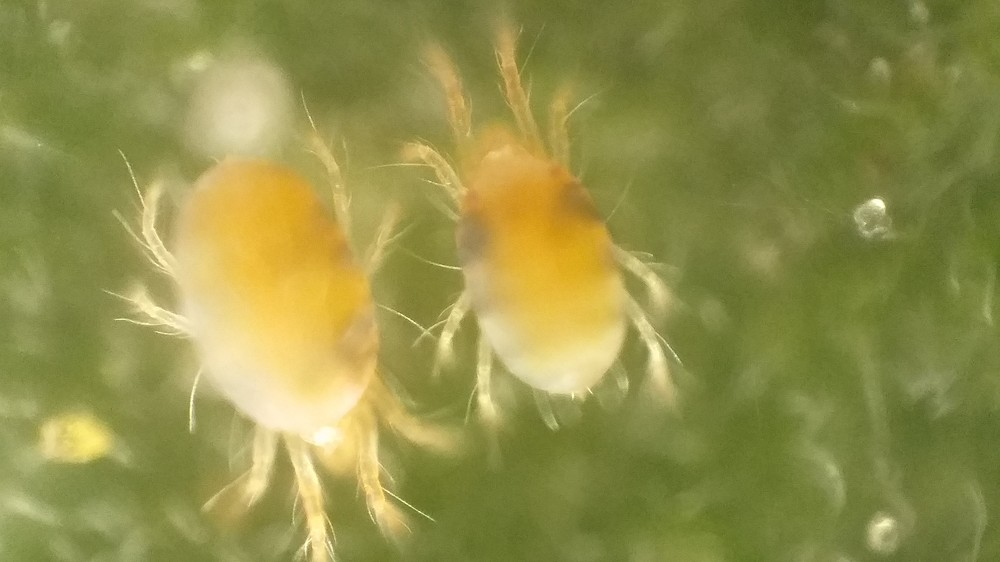Aracnido Rojo: (120, 124, 447, 560), (389, 24, 703, 455)
